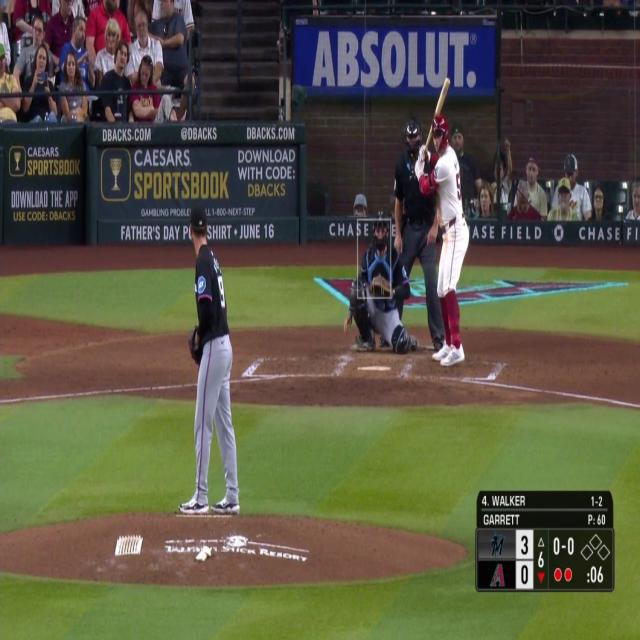Player: (163, 194, 259, 525)
